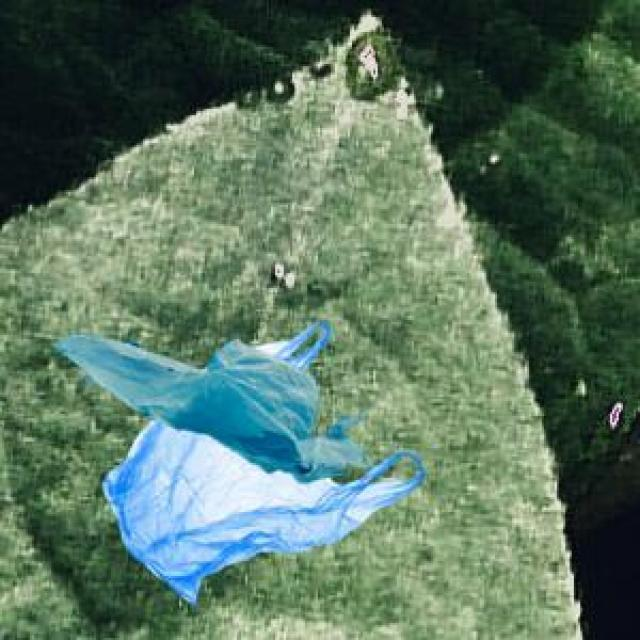waste: (56, 321, 425, 603)
